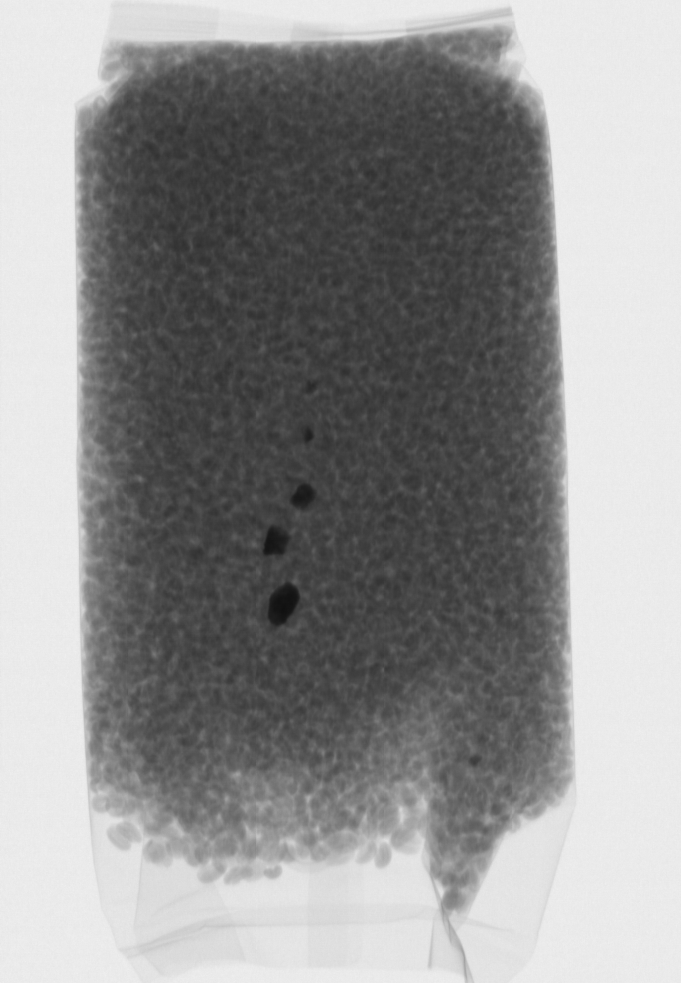stone: (263, 575, 308, 634), (261, 519, 291, 564), (293, 478, 319, 515), (300, 422, 319, 445), (303, 373, 320, 396)
stone_area: (240, 352, 339, 647)
